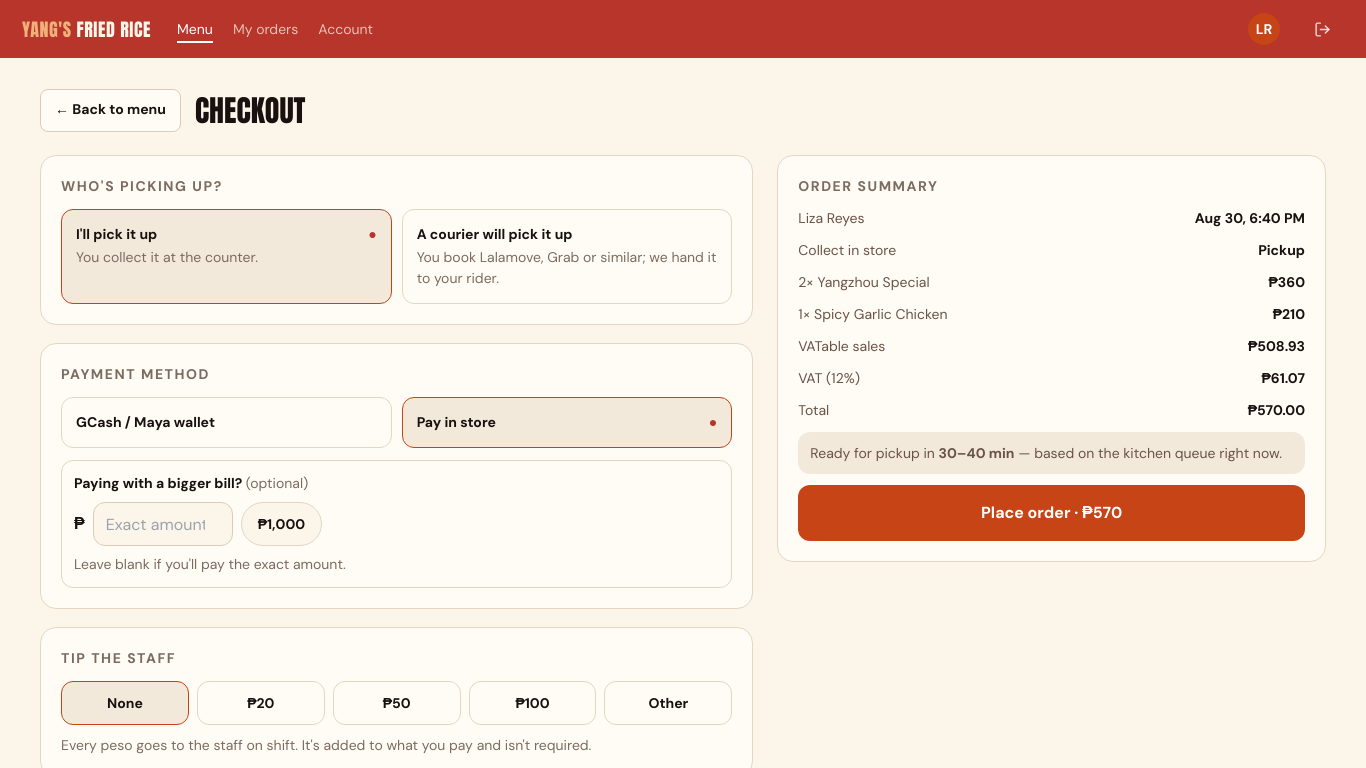
Test: Checkout cart re-check › does not re-check for other refusals
Click the button "Place order · ₱570". click: (1052, 513)
box: [798,485,1305,541]
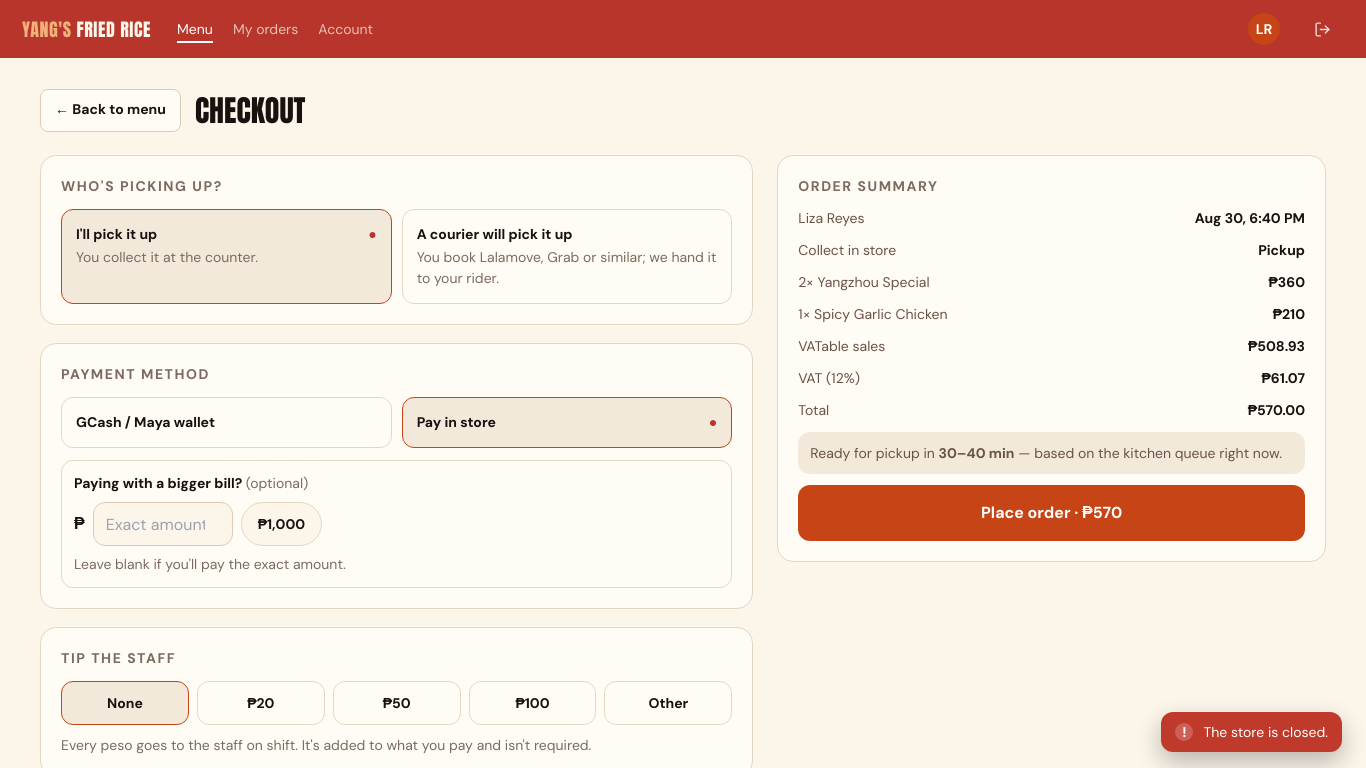
Expected: the text "The store is closed." is shown, [1203,723,1328,741]
